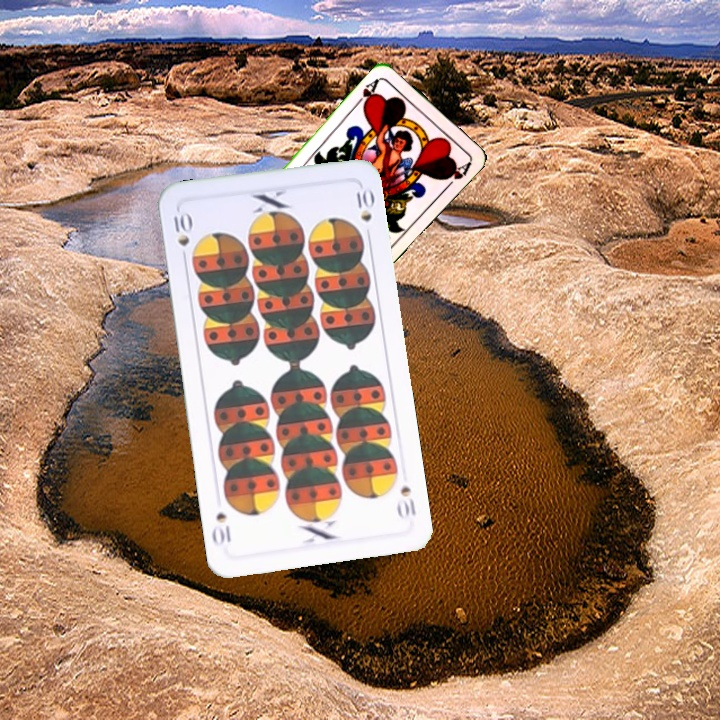HA: (352, 75, 383, 112)
S10: (170, 207, 194, 265), (393, 481, 419, 522)
